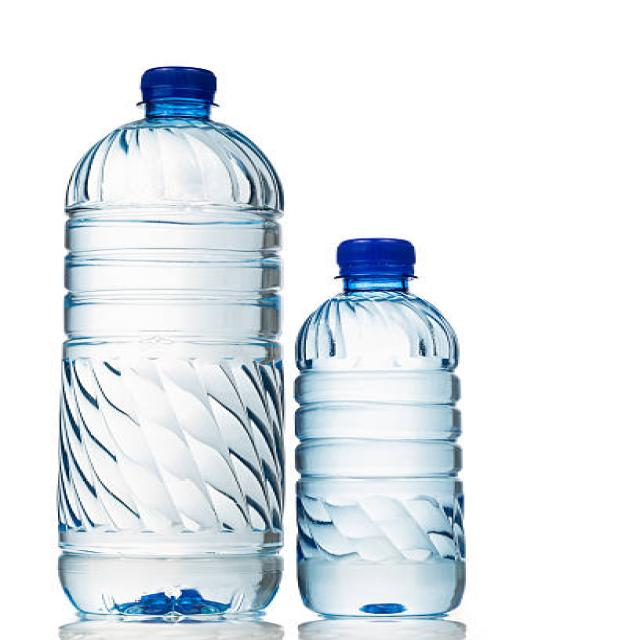bottle: (54, 62, 282, 623), (302, 236, 475, 617)
